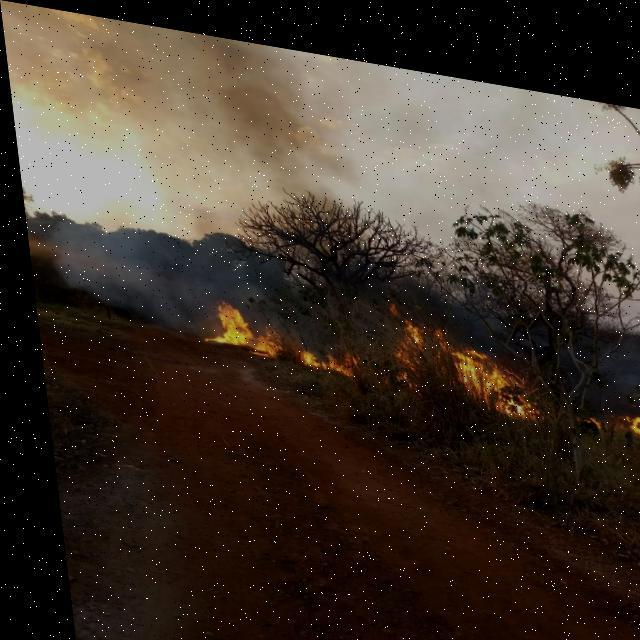Fire: (384, 302, 532, 402), (205, 294, 276, 354), (290, 334, 355, 366), (608, 391, 639, 419)
